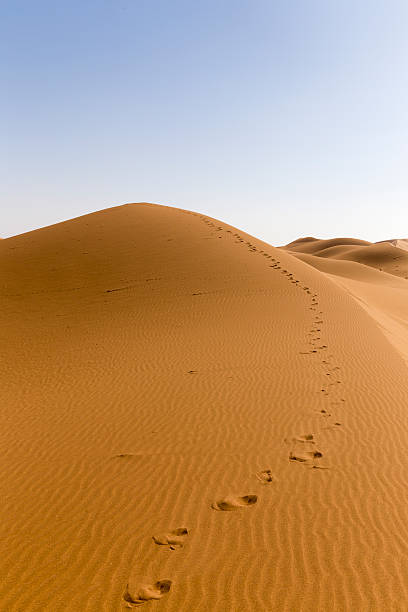human_foot_print: (280, 446, 334, 476), (123, 580, 171, 607), (313, 402, 349, 425), (152, 527, 187, 549), (211, 494, 257, 510), (296, 430, 324, 443), (320, 377, 340, 390)
